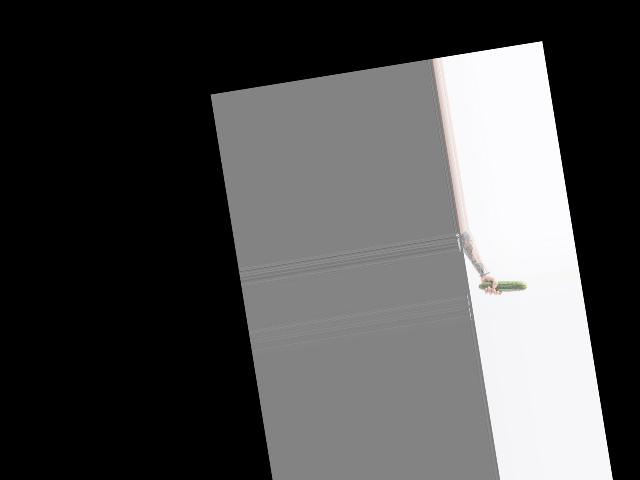cucumber: (478, 276, 528, 297)
